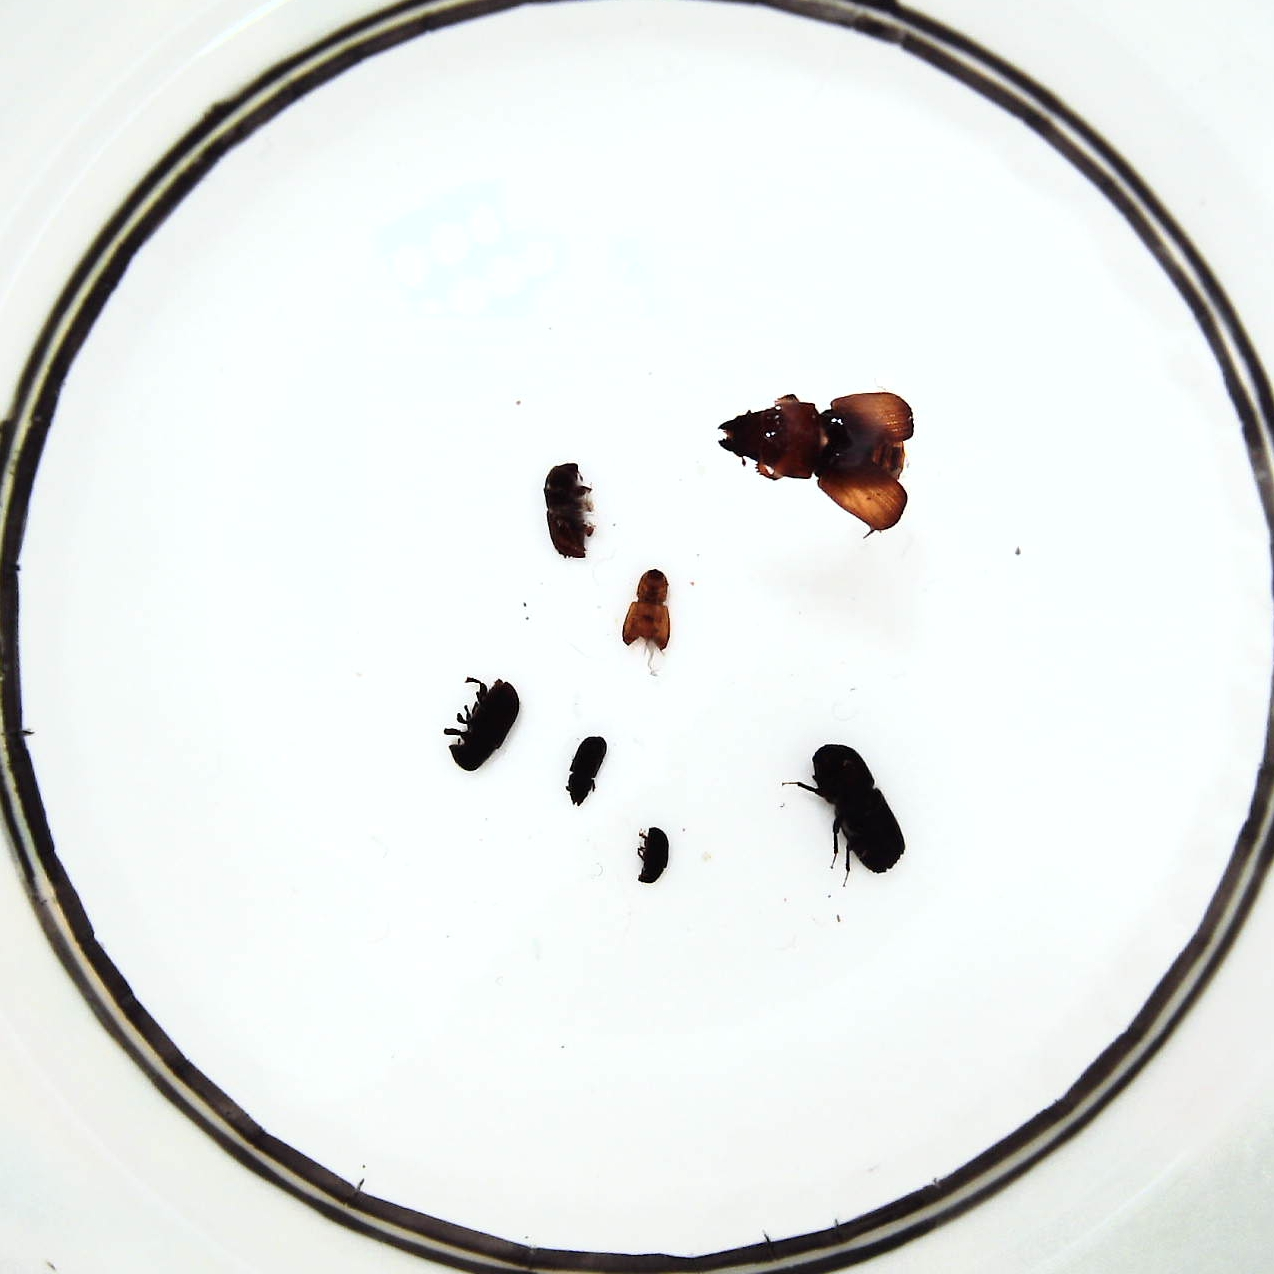Boerner: (811, 738, 905, 874)
Leconte: (715, 390, 912, 539)
Linnaeus: (545, 462, 590, 559)
acuminatus: (621, 569, 672, 653)
armandi: (447, 680, 520, 771)
coleoptera: (568, 733, 605, 807), (636, 824, 668, 887)
